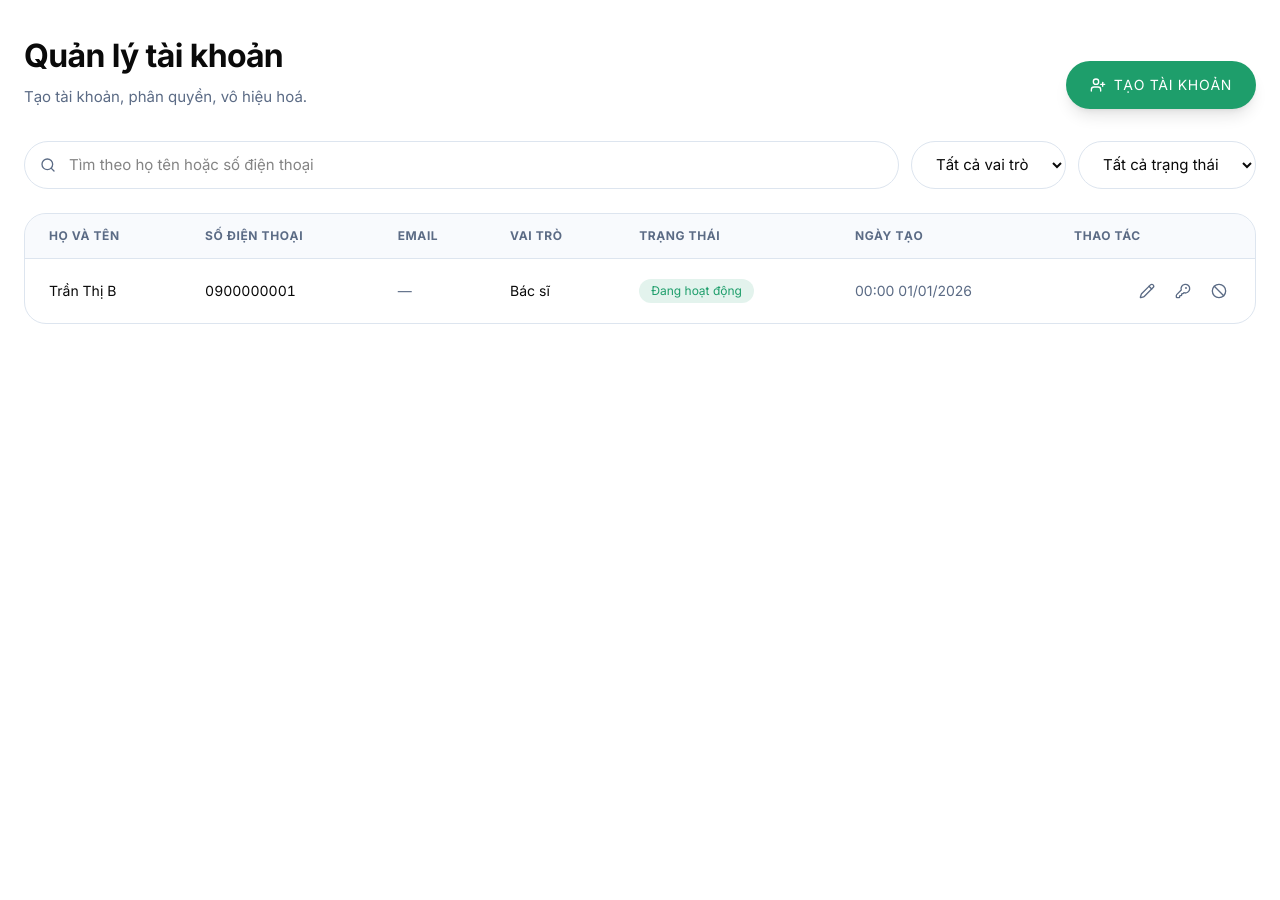
Test: UserList — thao tác theo dòng (UC-04 SCR-06) › hiện mật khẩu tạm đúng một lần trên màn hình sau khi cấp lại thành công, không qua email
The image size is (1280, 900).
Click the button titled "Cấp lại mật khẩu".
click(1183, 290)  # box top-left (1167, 274), bottom-right (1199, 306)
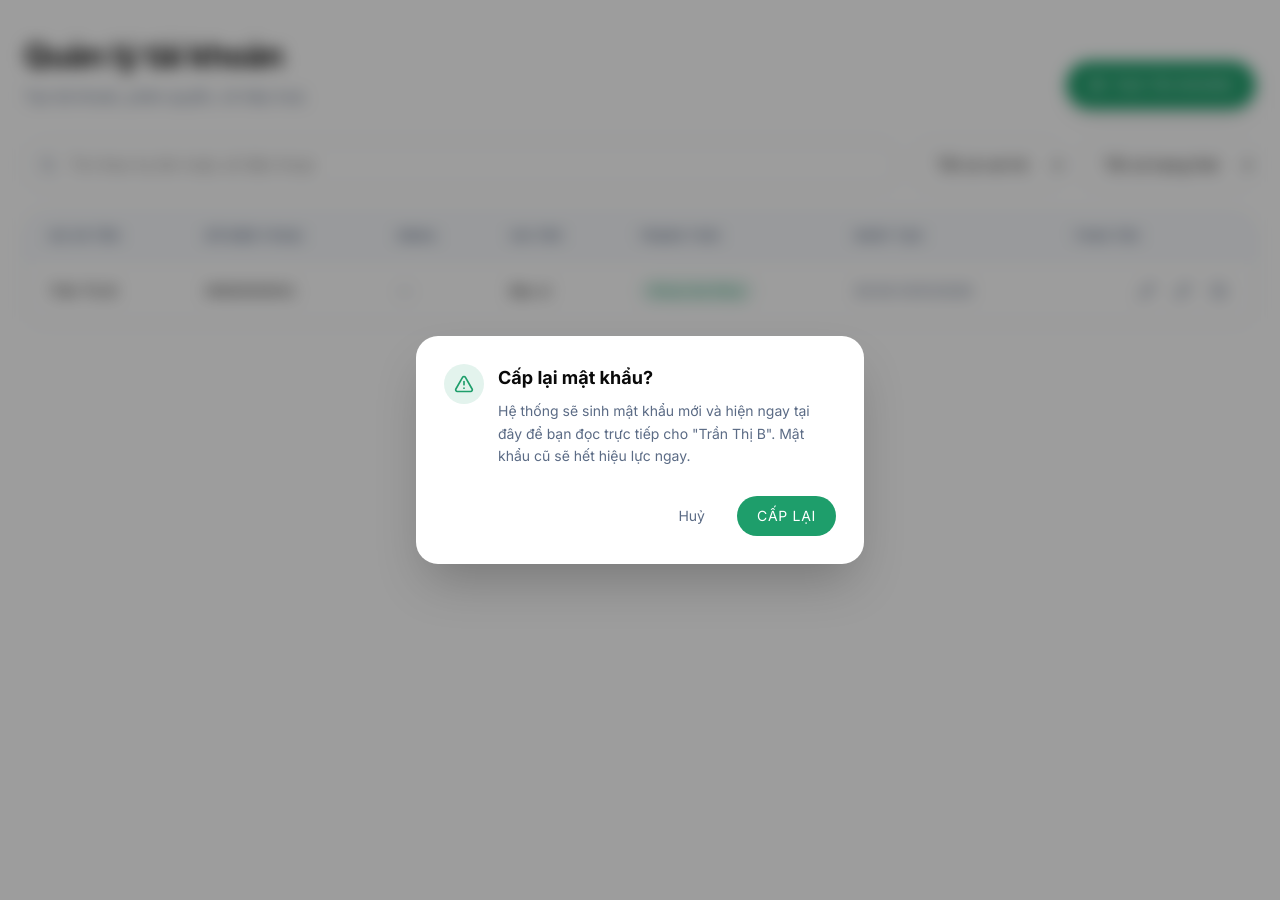
Click the button "Cấp lại".
click(786, 516)  # box top-left (737, 496), bottom-right (836, 536)
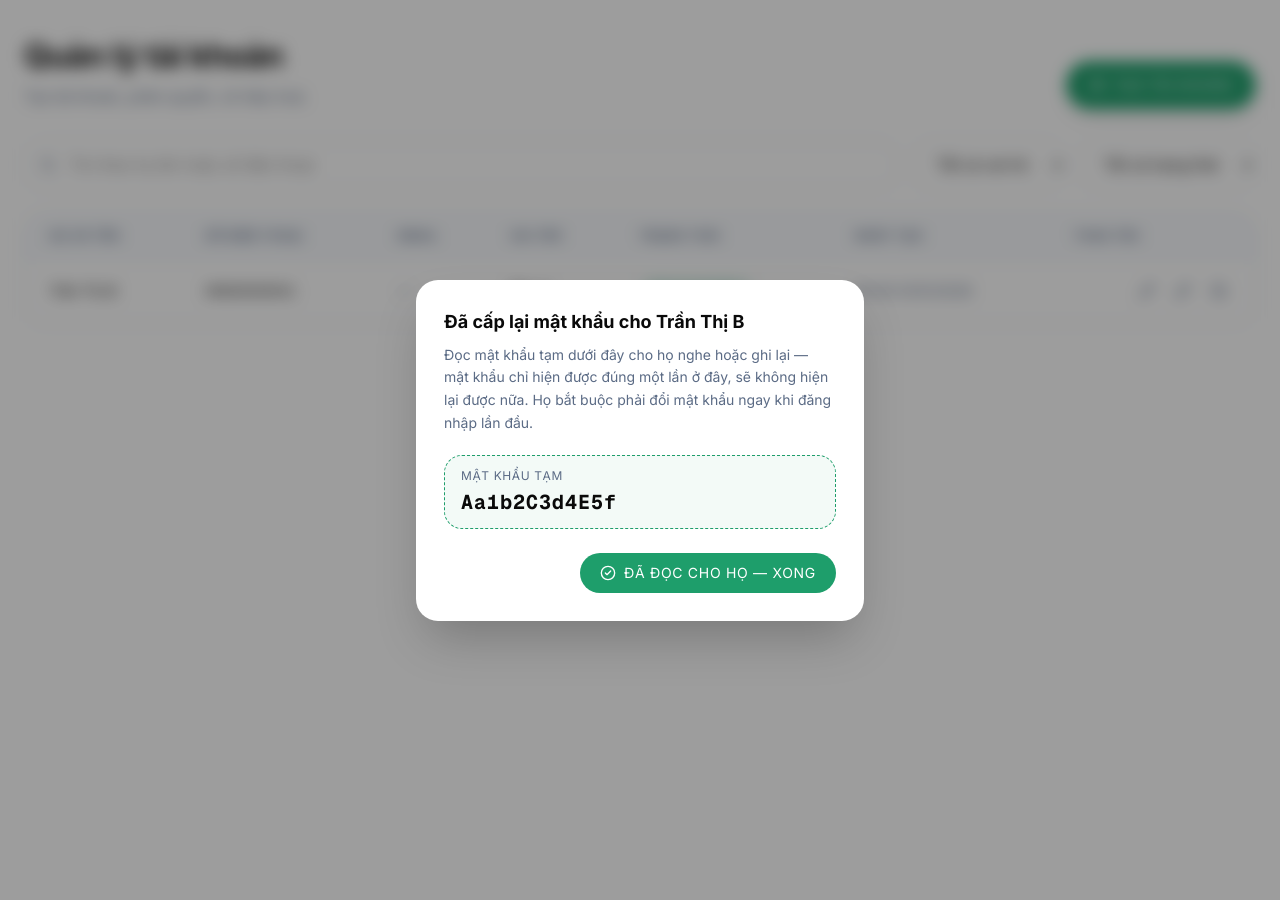
Check: the heading "Đã cấp lại mật khẩu cho Trần Thị B" is shown, box top-left (444, 310), bottom-right (744, 332)
Check: the text "Aa1b2C3d4E5f" is shown, box top-left (461, 488), bottom-right (617, 514)
